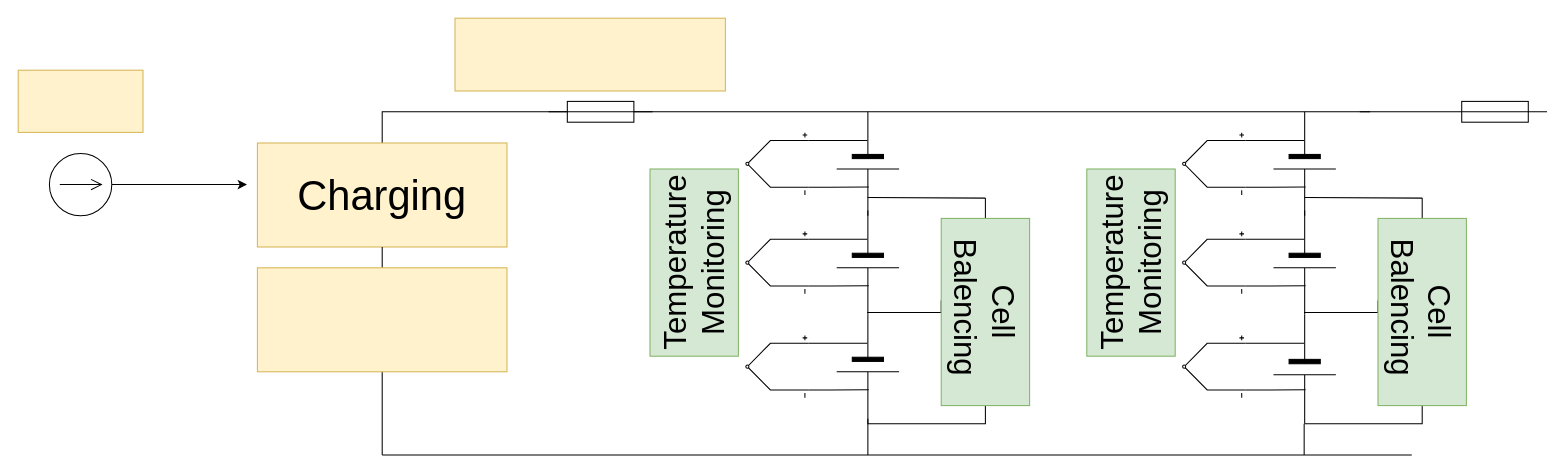
The diagram is 1565 pixels wide and 474 high, and some of its shapes have lost their labels. Each missing label, with the box of its shape:
DC: (17, 69, 143, 132)
Discharging: (256, 267, 507, 372)
In rush protection: (454, 17, 725, 91)
